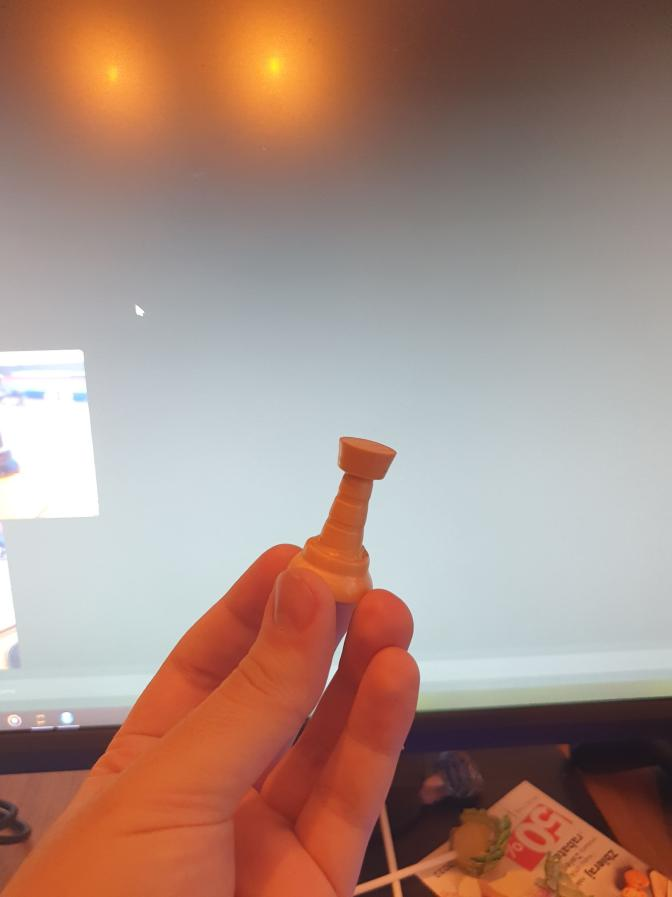wrook: (289, 438, 399, 604)
